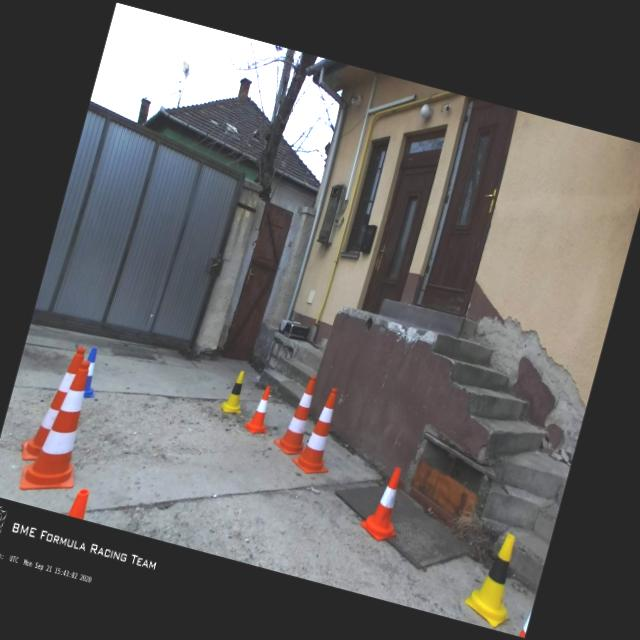blue_cone: (77, 346, 106, 399)
large_orange_cone: (17, 352, 105, 502), (18, 338, 86, 468), (288, 382, 348, 478), (271, 371, 321, 456)
orange_cone: (357, 462, 412, 544), (242, 382, 279, 437)
yellow_cone: (459, 526, 529, 630), (219, 368, 251, 417)
